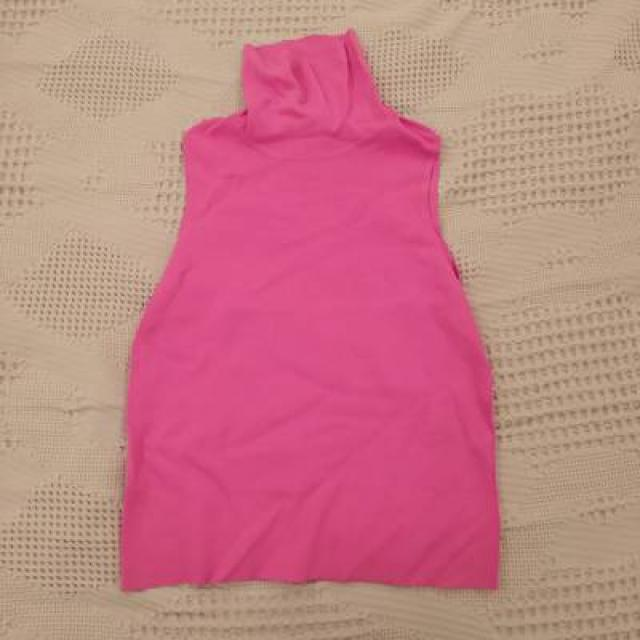Clothes -Biodegradable-: (120, 29, 500, 586)
